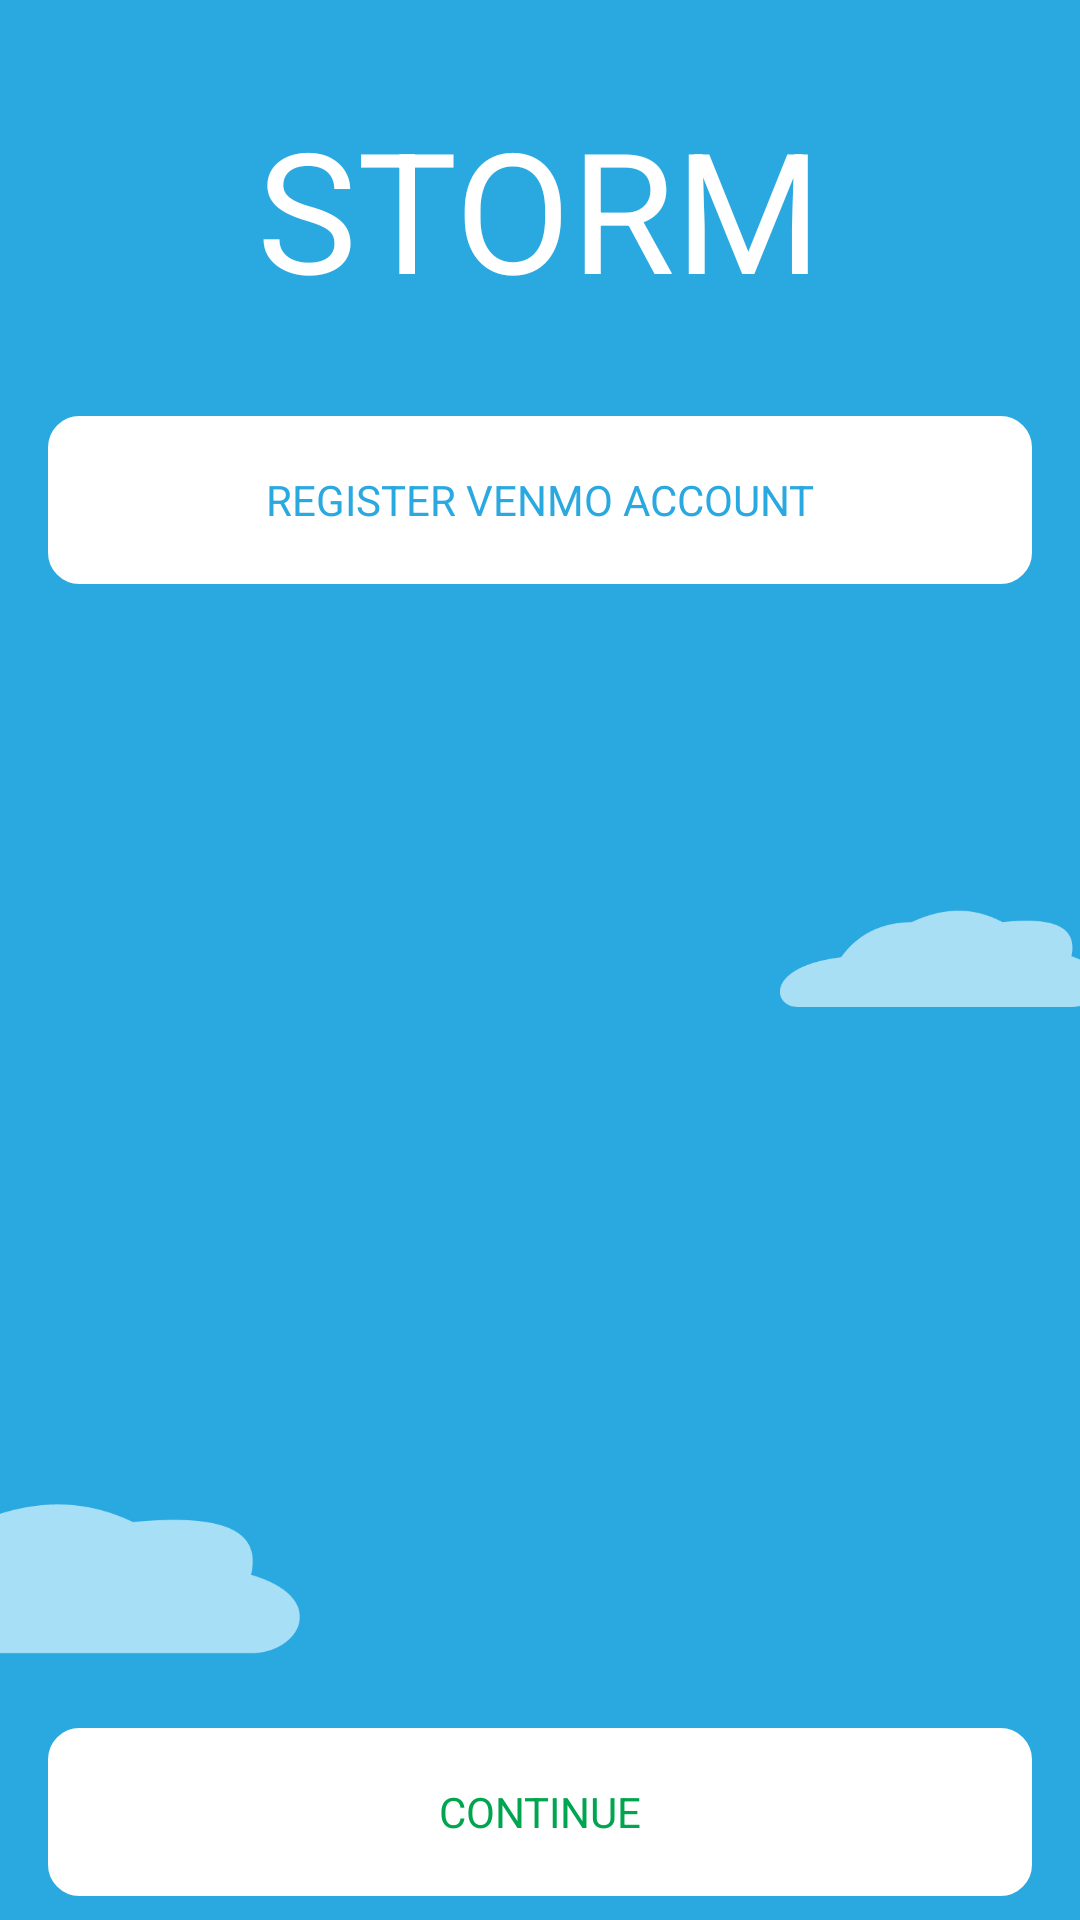

Where to tap for icons on this 1080x1920 app screen, as point (x, y):
left cloud: point (150, 1579)
right cloud: point (930, 958)
